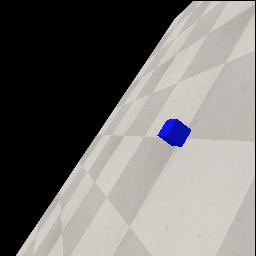box: (157, 119, 191, 147)
